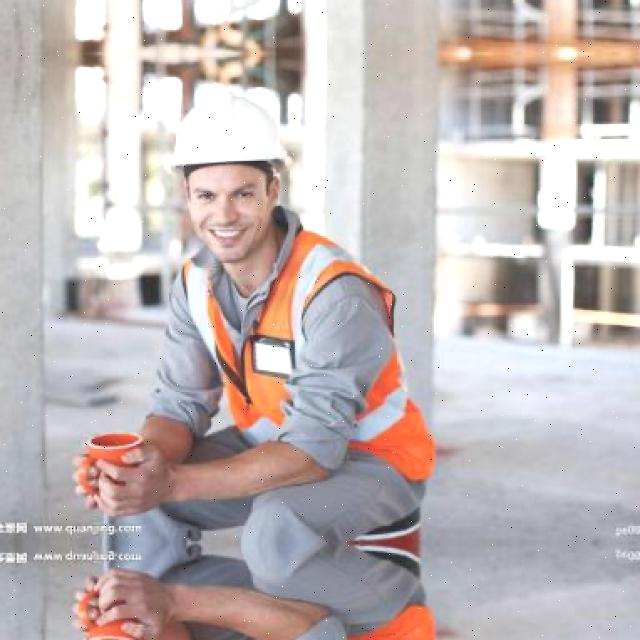Hardhat: (173, 93, 287, 167)
No Earmuff: (267, 174, 281, 215)
No Glove: (87, 415, 331, 515)
No Overall Suit: (184, 229, 434, 481)
